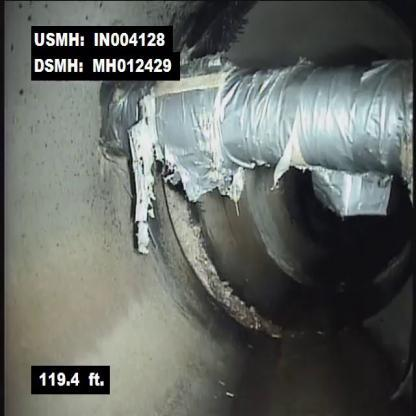jntoffs: (173, 216, 275, 344)
utits: (84, 82, 414, 246), (181, 25, 414, 219)
